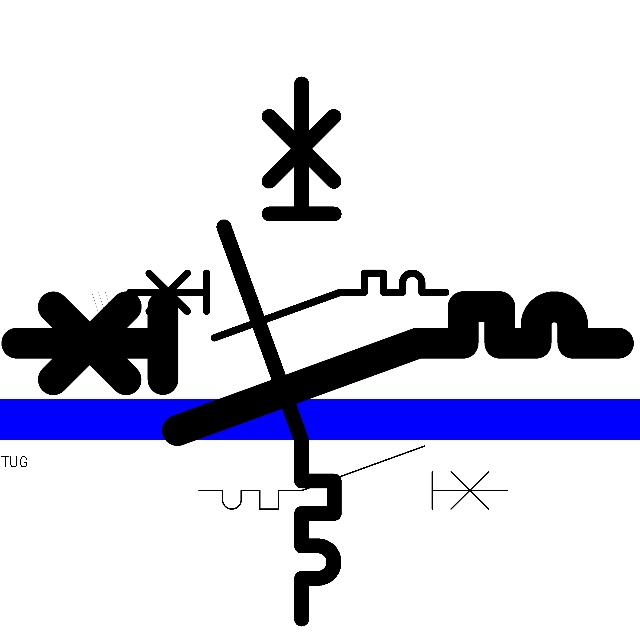interruptor_termomagnetico: (1, 291, 634, 446), (210, 70, 348, 633), (121, 265, 453, 346), (191, 438, 515, 517)
